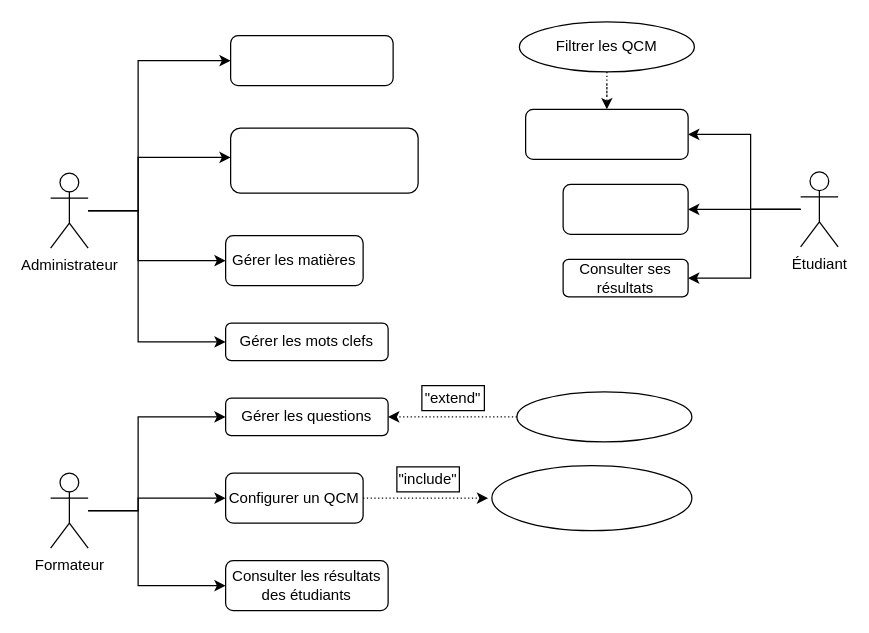
The diagram is 869 pixels wide and 633 high, and some of its shapes have lost their labels. The shapes that lost their labels are listed below. From the top down, each one's box as (x1, y1, x2, y2) in pixels, then its label:
(229, 34, 393, 86): creation et modifaction des compte utilisateur
(524, 108, 688, 159): Consulter la liste des QCM de sa classe
(229, 127, 418, 193): création et modification des classe ( Affecter matières et formateurs)
(562, 183, 688, 234): Répondre à un QCM
(516, 391, 692, 442): dupliquer une question
(491, 464, 692, 531): genere les questions du QCM (tirage aleatoire)
